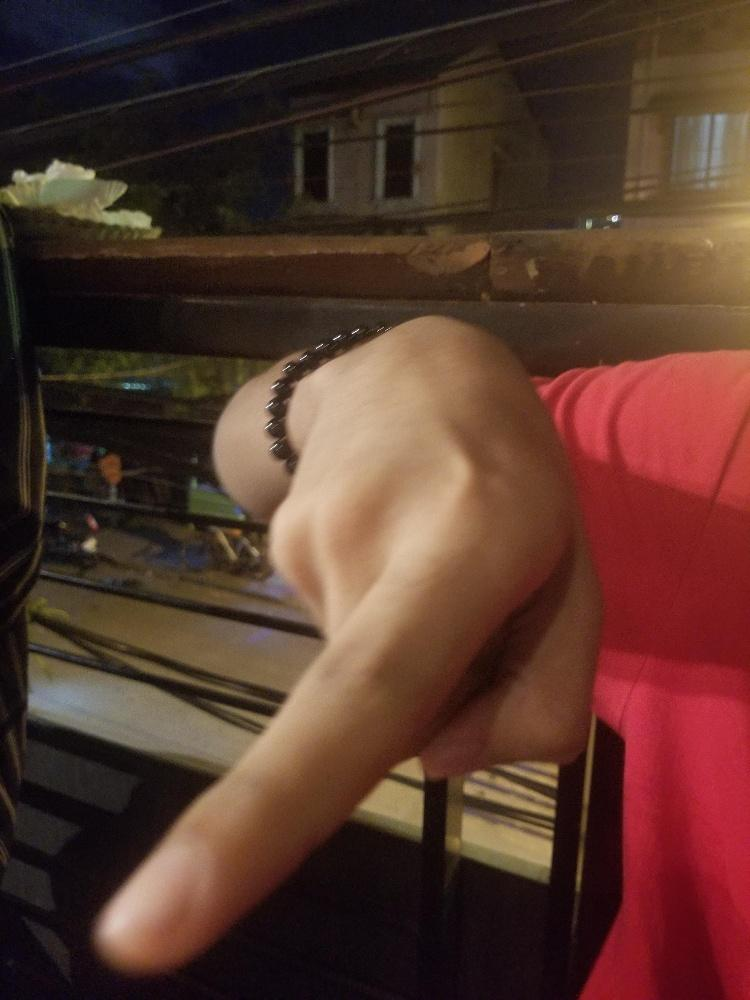z: (92, 311, 605, 980)
